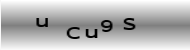9: (99, 19, 114, 34)
C: (65, 26, 81, 40)
S: (122, 17, 136, 31)
u: (84, 27, 99, 39), (35, 17, 49, 28)
